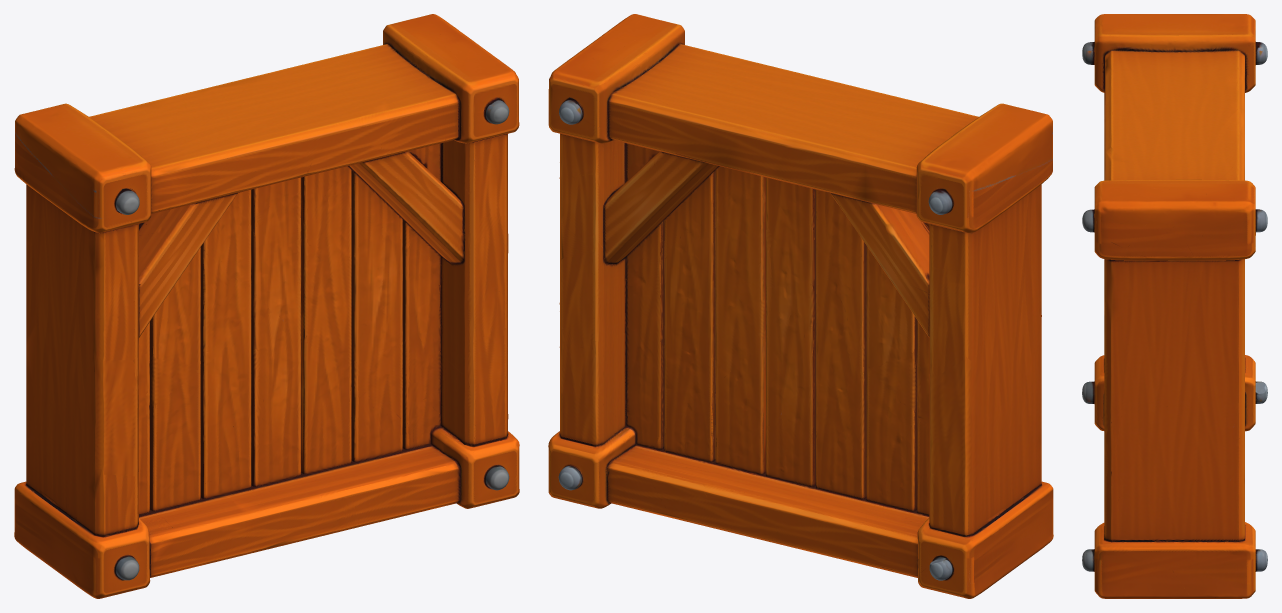
The model's file is wall.glb.
3 renders of one model, left to right at view 1: azimuth 30°, elevation 25°; view 2: azimuth 150°, elevation 25°; view 3: azimuth 270°, elevation 25°, orthographic. The views are drawn at different scales.
Bounding box in the file's own units: 1.9 × 1.81 × 0.7683.
1 material, 1 textured.
